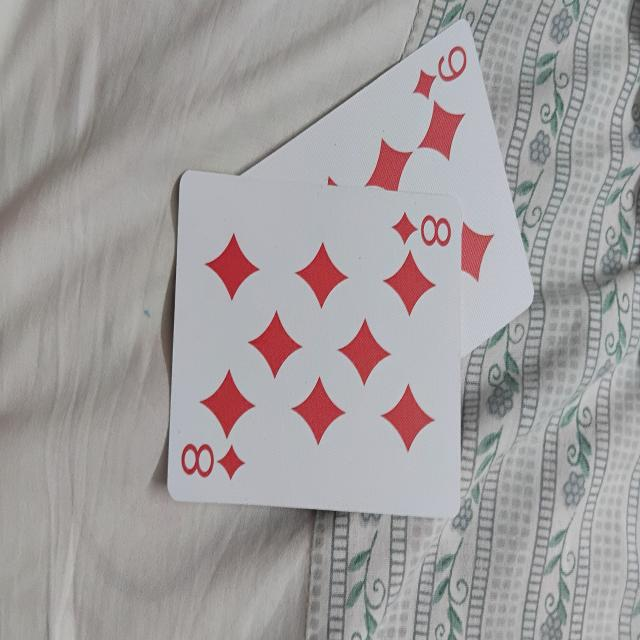8D: (169, 174, 462, 514)
9D: (238, 21, 536, 357)
